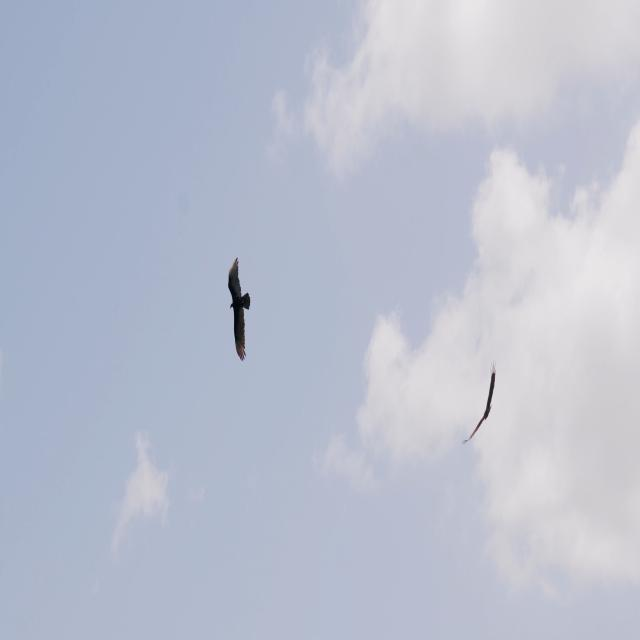bird: (461, 359, 497, 448), (227, 255, 251, 363)
